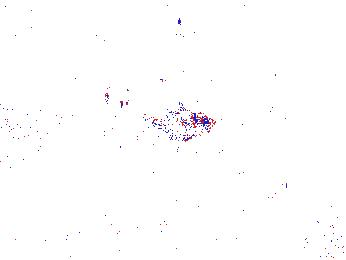X-ray fish: (141, 108, 217, 139)
red belly glassfish: (296, 36, 312, 58)
